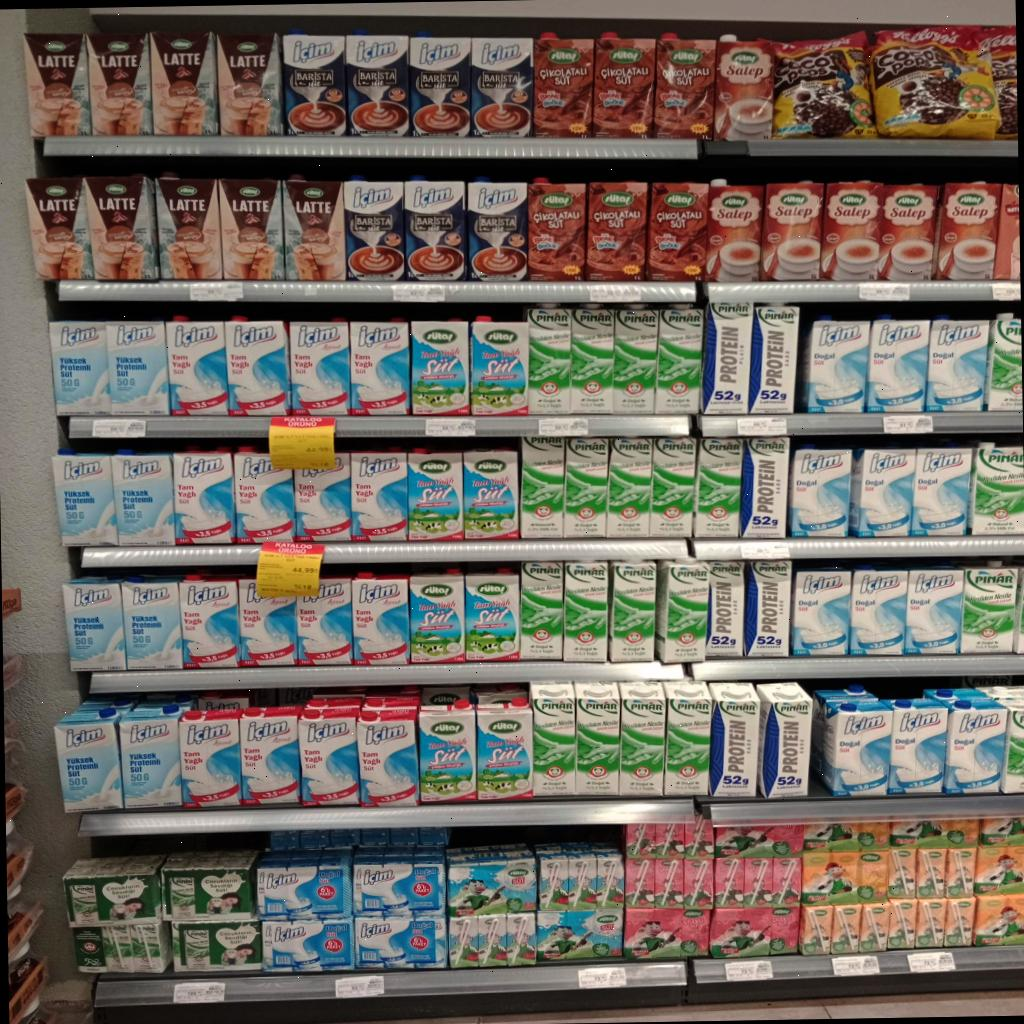price_tag: (256, 542, 324, 597), (269, 416, 335, 469), (335, 976, 384, 999), (173, 982, 226, 1003), (191, 281, 243, 302), (92, 418, 146, 438), (392, 283, 446, 303), (724, 959, 773, 981), (908, 951, 956, 973), (883, 413, 933, 434), (579, 967, 627, 988), (538, 417, 588, 437), (425, 417, 475, 437), (737, 416, 786, 436), (859, 282, 910, 301), (591, 283, 642, 302), (831, 956, 879, 976), (741, 540, 789, 559), (992, 281, 1020, 301), (300, 283, 319, 297)
product: (871, 26, 1000, 138), (773, 31, 875, 138), (83, 174, 159, 281), (62, 854, 167, 926), (54, 707, 123, 812), (149, 31, 218, 135), (161, 849, 259, 921), (820, 698, 892, 796), (796, 315, 868, 412), (25, 178, 93, 280), (216, 33, 283, 136), (156, 175, 222, 279), (118, 701, 182, 808), (25, 33, 90, 138), (281, 175, 346, 280), (85, 33, 151, 136), (257, 848, 351, 920), (282, 30, 346, 135), (592, 32, 655, 138), (345, 32, 409, 136), (652, 33, 715, 138), (404, 176, 467, 281), (224, 316, 290, 415), (935, 181, 1001, 279), (757, 682, 812, 799), (532, 32, 593, 137), (796, 898, 895, 962), (220, 178, 282, 280), (865, 315, 930, 412), (52, 449, 117, 546), (408, 32, 469, 135), (448, 845, 535, 917), (353, 846, 445, 914), (821, 181, 883, 280), (345, 175, 404, 279), (467, 179, 527, 281), (943, 697, 1006, 794), (166, 315, 227, 415), (240, 705, 301, 805), (715, 35, 773, 140), (587, 181, 647, 282), (470, 37, 531, 136), (647, 181, 708, 280), (763, 181, 824, 280), (848, 447, 915, 537), (172, 447, 234, 544), (925, 316, 988, 411), (535, 842, 623, 910), (528, 178, 586, 281), (112, 449, 174, 545), (299, 706, 359, 805), (357, 707, 417, 806), (63, 577, 126, 671), (179, 711, 240, 808), (705, 179, 763, 281), (662, 679, 713, 795), (418, 699, 475, 802), (708, 682, 759, 797), (107, 319, 168, 415), (234, 447, 295, 543), (887, 698, 948, 794), (878, 184, 938, 281), (49, 320, 110, 415), (349, 319, 409, 415), (290, 319, 350, 415), (476, 700, 533, 801), (470, 317, 528, 416), (800, 848, 892, 910), (910, 445, 973, 535), (789, 446, 851, 537), (121, 577, 182, 669), (654, 561, 709, 663), (410, 320, 469, 415), (703, 302, 753, 414), (179, 575, 239, 667), (618, 681, 665, 797), (903, 566, 964, 654), (350, 448, 407, 542), (749, 305, 798, 414), (352, 572, 409, 665), (574, 682, 620, 796), (655, 304, 703, 413), (409, 569, 464, 663), (893, 836, 976, 898), (530, 682, 575, 796), (694, 437, 745, 537), (739, 436, 789, 538), (71, 922, 171, 973), (294, 453, 351, 542), (408, 449, 463, 541), (464, 569, 519, 661), (960, 566, 1018, 653), (462, 449, 518, 539), (792, 568, 850, 654), (849, 568, 907, 654), (261, 919, 355, 972), (239, 579, 296, 666), (968, 445, 1024, 533), (448, 912, 536, 968), (297, 576, 352, 665), (608, 561, 656, 662), (898, 890, 976, 952), (171, 918, 261, 971), (569, 306, 613, 413), (613, 307, 657, 413), (624, 856, 713, 908), (710, 906, 799, 958), (744, 559, 791, 657), (527, 307, 570, 414), (649, 437, 695, 537), (712, 856, 801, 907), (624, 908, 710, 960), (563, 562, 608, 661), (521, 437, 565, 537), (607, 437, 651, 537), (536, 910, 622, 961), (564, 438, 608, 537), (520, 561, 563, 660), (355, 915, 435, 968), (966, 825, 1024, 896), (625, 814, 713, 859), (892, 809, 984, 852), (984, 313, 1022, 411), (706, 561, 744, 658), (802, 816, 890, 853), (714, 824, 803, 858), (996, 692, 1024, 793), (972, 894, 1024, 946), (994, 182, 1019, 280), (979, 808, 1024, 846)
